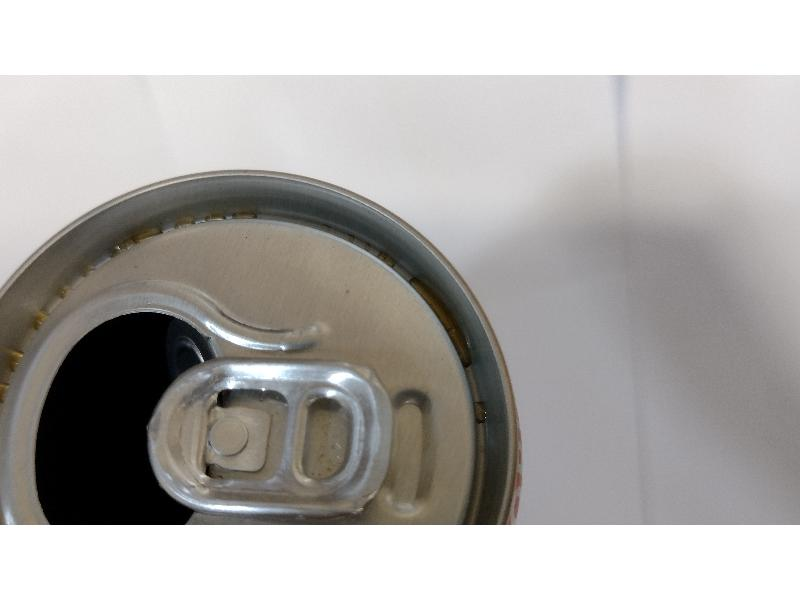can: (1, 161, 540, 536)
